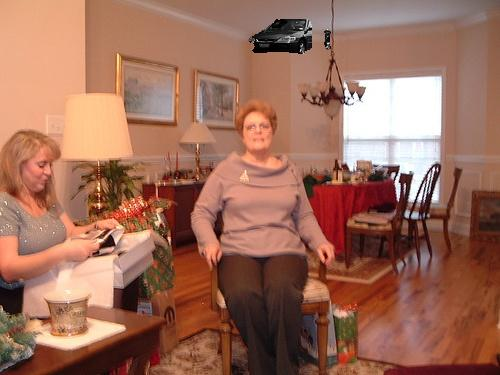tampered: (249, 20, 331, 54)
